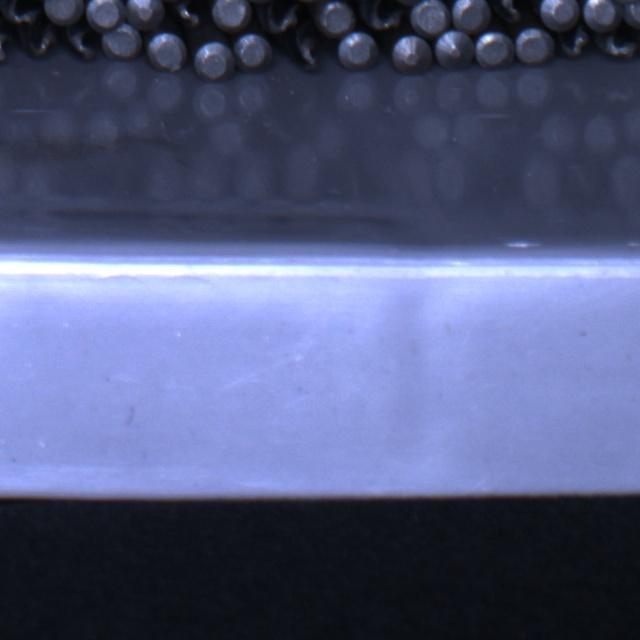tool: (391, 33, 432, 73), (148, 30, 188, 70), (338, 29, 377, 70), (193, 38, 232, 78), (434, 29, 474, 68), (474, 29, 513, 68), (234, 30, 272, 70), (103, 22, 143, 60), (408, 0, 449, 37), (315, 1, 356, 37), (515, 27, 554, 64), (210, 0, 252, 32), (538, 0, 579, 30), (450, 0, 489, 31), (583, 0, 622, 30), (126, 0, 166, 29), (87, 0, 126, 29), (43, 0, 85, 24)
tool_b: (62, 25, 102, 63), (260, 0, 303, 35), (595, 28, 638, 62), (288, 33, 325, 72), (360, 0, 405, 32), (22, 24, 58, 62), (556, 26, 591, 60), (1, 0, 44, 26), (490, 0, 535, 24), (169, 0, 205, 28)
